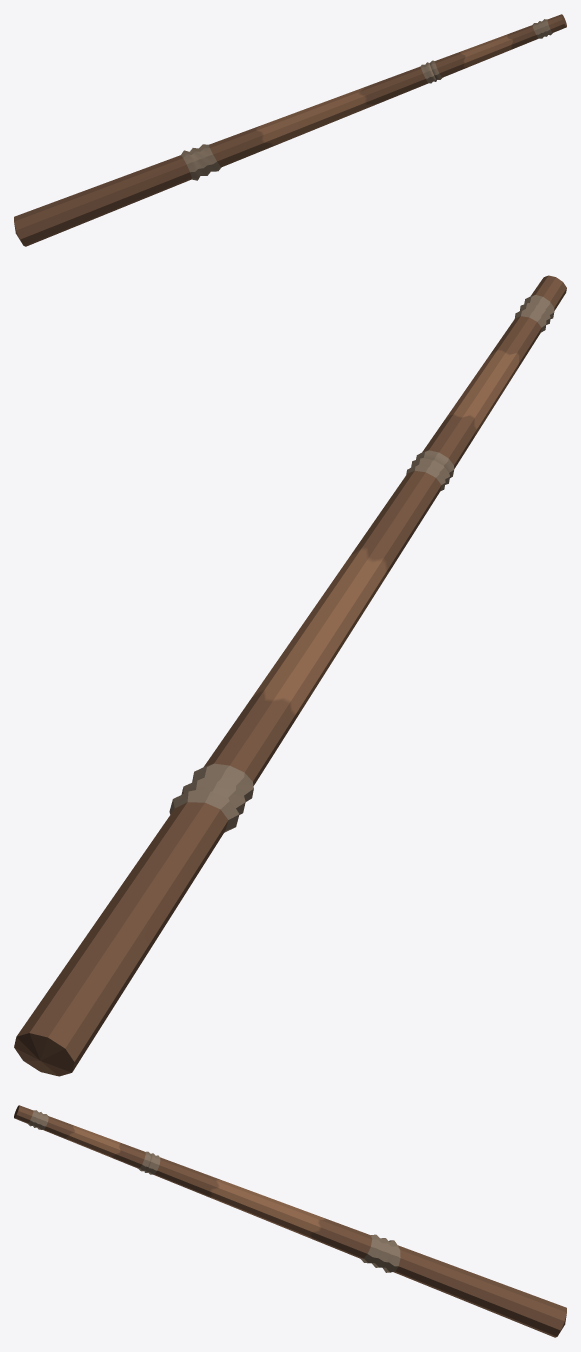
Rendered from SM_Veh_Ship_S_Bowsprit_01.fbx.
The picture shows the model from 3 angles, top to bottom: view 1: azimuth 90°, elevation 25°; view 2: azimuth 150°, elevation 25°; view 3: azimuth 270°, elevation 25°; orthographic projection. The views are drawn at different scales.
Parts seen in each view (by area): view 1: SM_Veh_Ship_S_Bowsprit_01; view 2: SM_Veh_Ship_S_Bowsprit_01; view 3: SM_Veh_Ship_S_Bowsprit_01.
Part boxes in pixels (x1,y1,x2,y2): SM_Veh_Ship_S_Bowsprit_01: [14, 14, 566, 246]; SM_Veh_Ship_S_Bowsprit_01: [14, 275, 566, 1076]; SM_Veh_Ship_S_Bowsprit_01: [14, 1105, 566, 1337].
Bounding box in the file's own units: 60.01 × 399 × 873.
